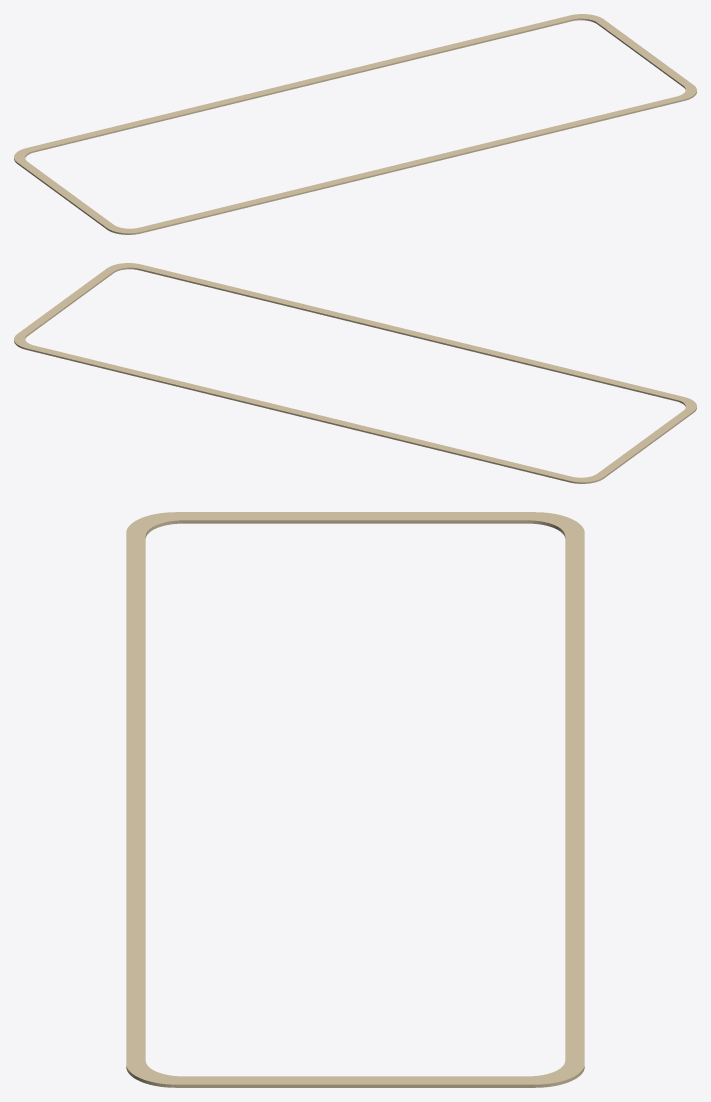
Rendered from pan-gasket.glb.
The picture shows the model from 3 angles, top to bottom: view 1: azimuth 30°, elevation 25°; view 2: azimuth 150°, elevation 25°; view 3: azimuth 270°, elevation 25°; orthographic projection. The views are drawn at different scales.
Visible parts, largest first — view 1: world; view 2: world; view 3: world.
Boxes of the visible parts, left/top/right/bottom form: world: left=14, top=14, right=696, bottom=234; world: left=14, top=263, right=696, bottom=483; world: left=126, top=512, right=584, bottom=1087.
Bounding box in the file's own units: 0.762 × 0.002 × 0.258.
